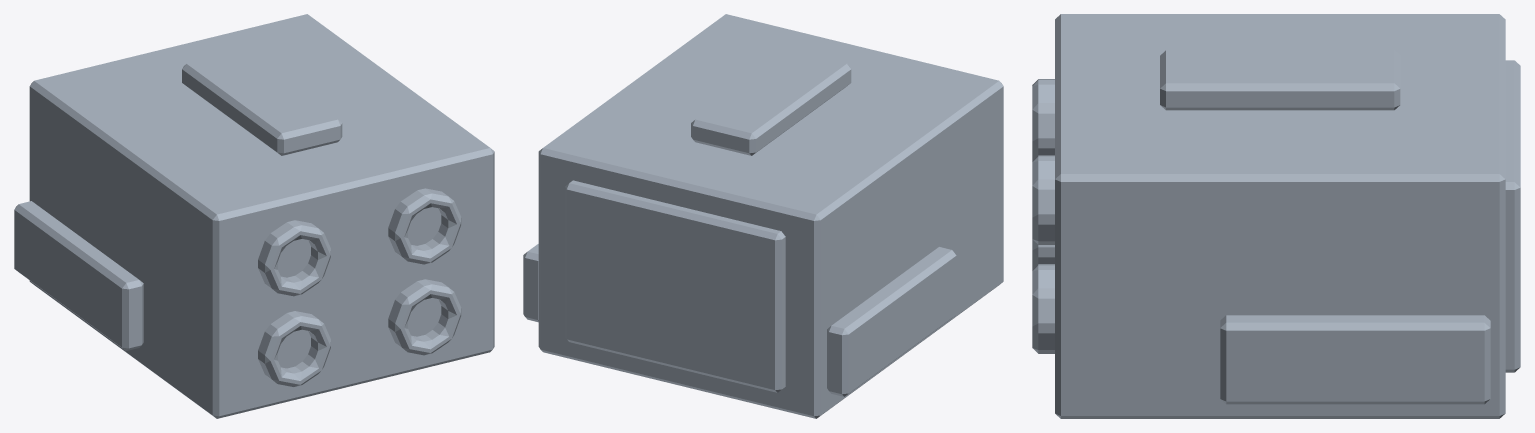
Rendered from Weapon_Seeker.fbx.
The picture shows the model from 3 angles, left to right: view 1: azimuth 30°, elevation 25°; view 2: azimuth 150°, elevation 25°; view 3: azimuth 270°, elevation 25°; orthographic projection. The views are drawn at different scales.
Visible parts, largest first — view 1: Weapon_Seeker; view 2: Weapon_Seeker; view 3: Weapon_Seeker.
Boxes of the visible parts, bbox=[...] form: Weapon_Seeker: bbox=[14, 14, 494, 418]; Weapon_Seeker: bbox=[523, 14, 1003, 418]; Weapon_Seeker: bbox=[1032, 14, 1520, 418].
Bounding box in the file's own units: 30 × 20 × 32.5.
